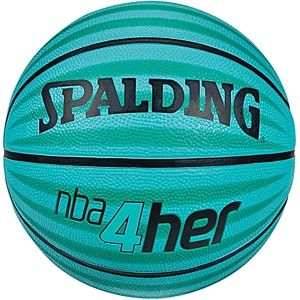baloncesto: (5, 1, 295, 297)
